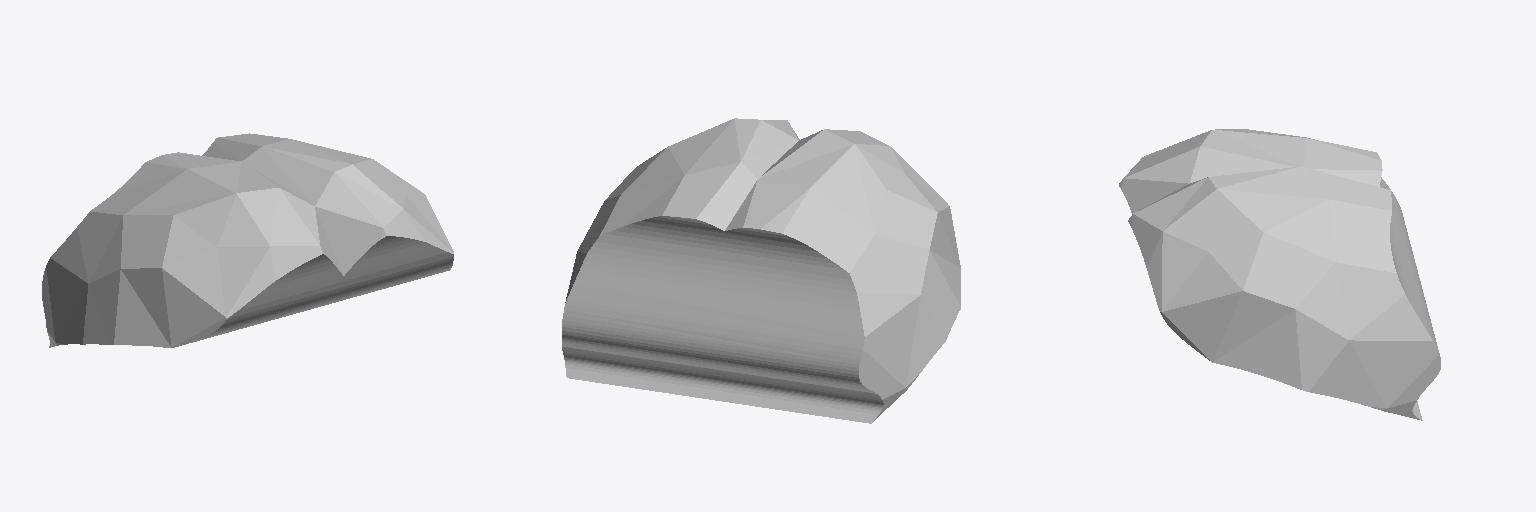
The model's file is ParietalLob.obj.
3 renders of one model, left to right at view 1: azimuth 30°, elevation 25°; view 2: azimuth 150°, elevation 25°; view 3: azimuth 270°, elevation 25°, orthographic.
Parts seen in each view (by area): view 1: Assem1.002; view 2: Assem1.002; view 3: Assem1.002.
Part boxes in pixels (bbox=[...]): Assem1.002: bbox=[42, 133, 453, 347]; Assem1.002: bbox=[562, 118, 960, 423]; Assem1.002: bbox=[1119, 129, 1440, 420].
Size of the model in its own units: 5.13 by 2.84 by 4.09.